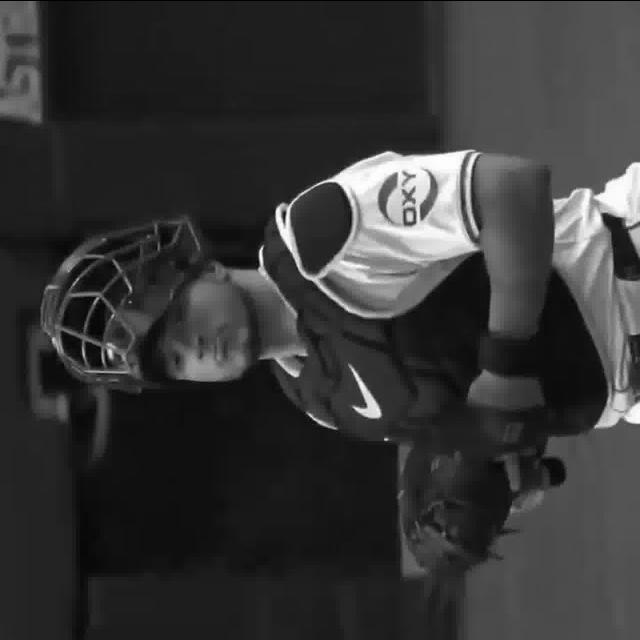baseball_glove: (405, 401, 549, 571)
